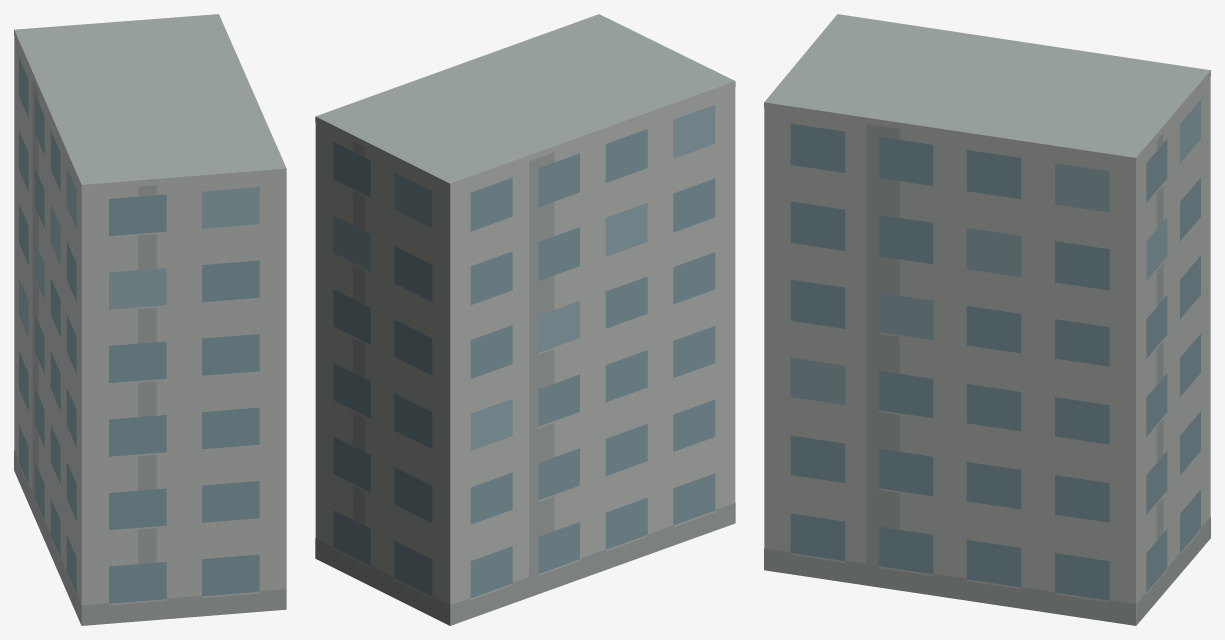
File: survey-upis-32894276.glb
3 views of the same model, side by side, from view 1: azimuth 30°, elevation 25°; view 2: azimuth 150°, elevation 25°; view 3: azimuth 270°, elevation 25° (orthographic). The views are drawn at different scales.
Visible parts, largest first — view 1: survey-upis-32894276.tmp; view 2: survey-upis-32894276.tmp; view 3: survey-upis-32894276.tmp.
Boxes of the visible parts, x1,y1,x2,y2 form: survey-upis-32894276.tmp: (14, 14, 286, 625); survey-upis-32894276.tmp: (315, 14, 735, 625); survey-upis-32894276.tmp: (764, 14, 1210, 625).
Size of the model in its own units: 11.62 by 17.6 by 15.24.
